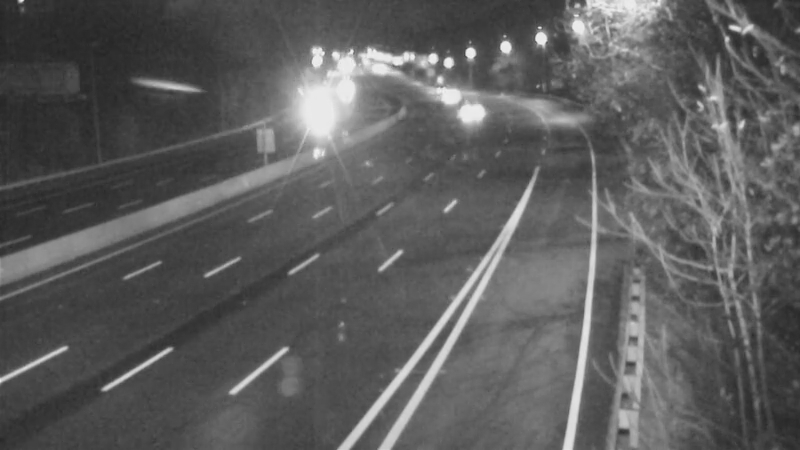vehicle: (415, 66, 465, 116), (426, 73, 476, 123), (446, 85, 496, 135), (291, 86, 341, 136)
